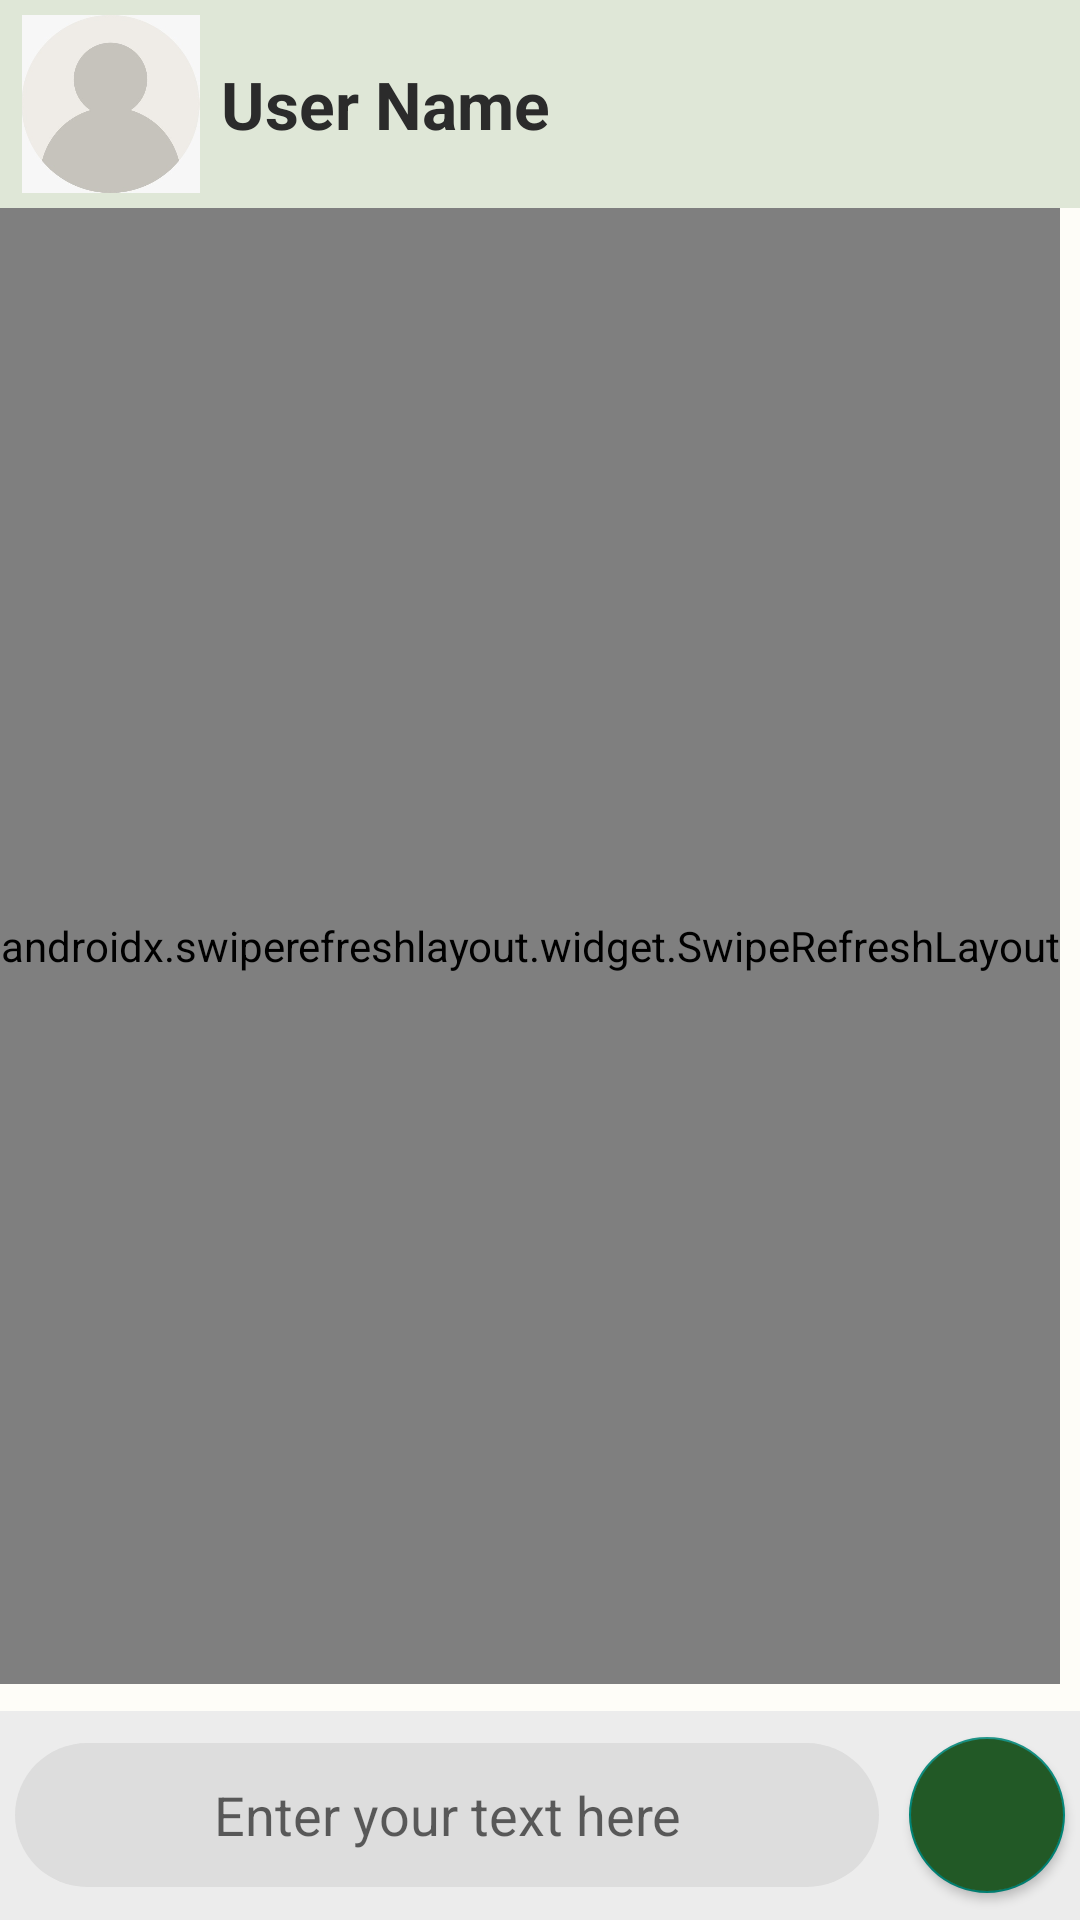

Icon bounding boxes for this 1080x1920 phone screenshot, format (x1, y1, x2, y2):
profile: (22, 15, 200, 193)
